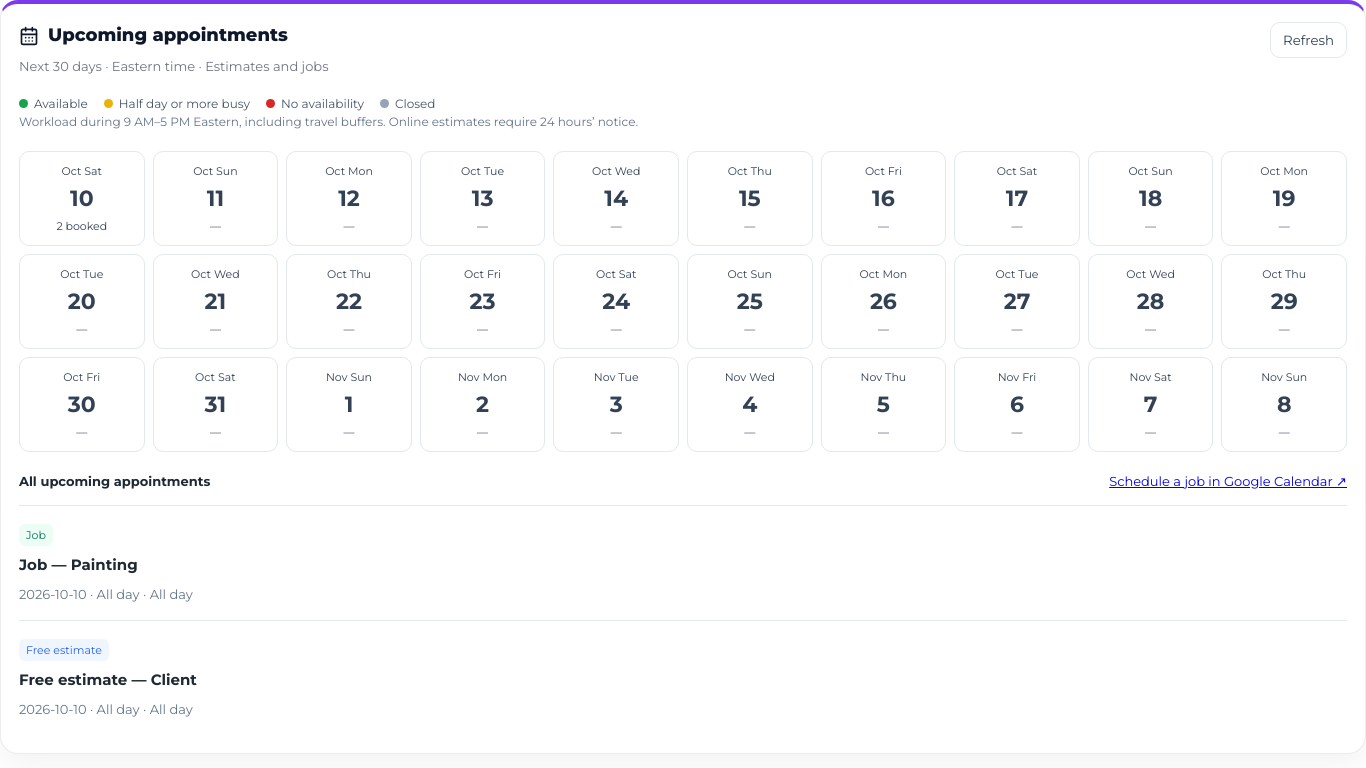
upcoming jobs and estimates are shown and can be filtered by date
Check: the heading "Job — Painting" is shown, box 19,555 -> 138,574
Check: the heading "Free estimate — Client" is shown, box 19,669 -> 197,692
Click the button "Oct Sat 10 2 booked" at (82, 198), box 19,150 -> 145,246
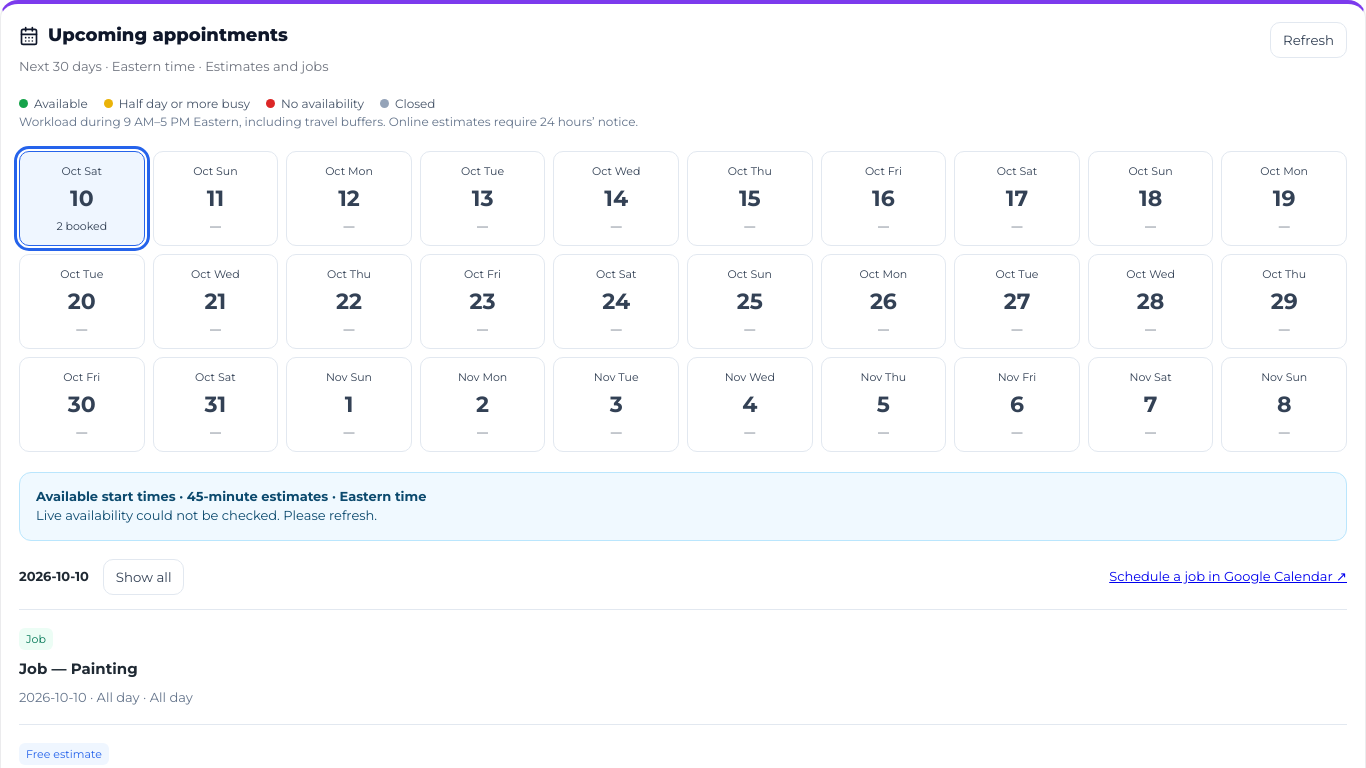
Check: the button "Show all" is shown, box 103,558 -> 184,594
